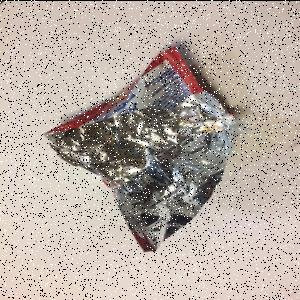Trash: (42, 48, 257, 254)
